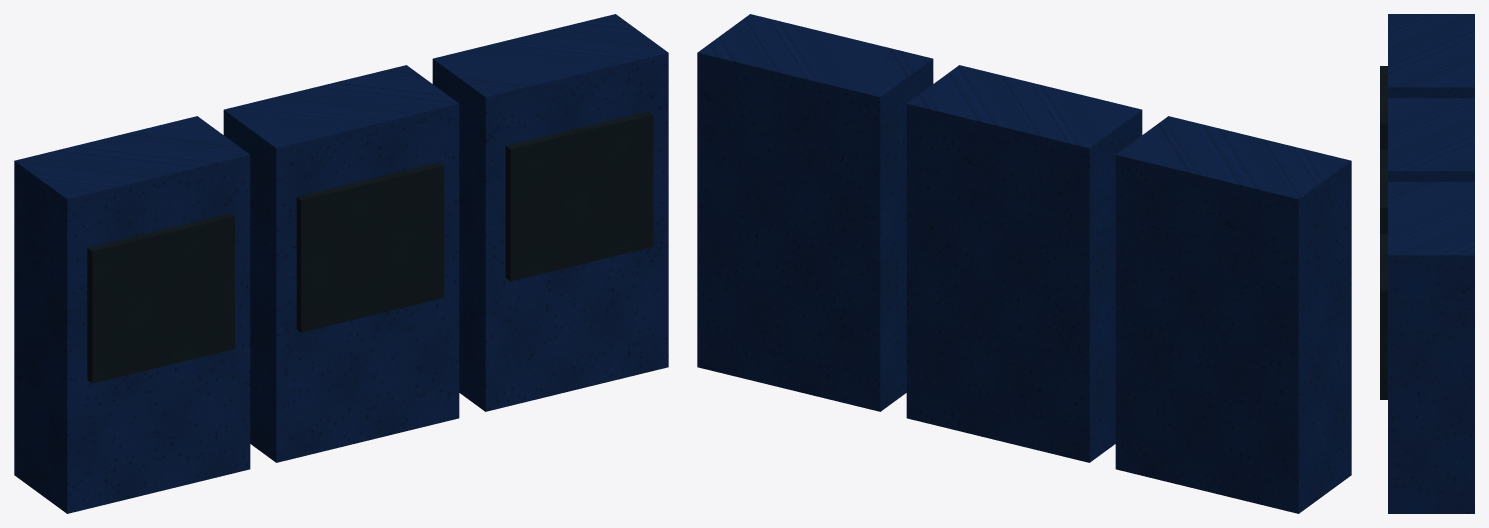
File: PROP-398C09779703_lod2.glb
3 renders of one model, left to right at view 1: azimuth 30°, elevation 25°; view 2: azimuth 150°, elevation 25°; view 3: azimuth 270°, elevation 25°, orthographic. The views are drawn at different scales.
Parts seen in each view (by area): view 1: cabinet.006, recessed_front.006; view 2: cabinet.006; view 3: cabinet.006, recessed_front.006.
Boxes of the visible parts, left/top/right/bottom form: cabinet.006: left=14, top=14, right=668, bottom=513; recessed_front.006: left=87, top=111, right=653, bottom=383; cabinet.006: left=697, top=14, right=1351, bottom=513; cabinet.006: left=1388, top=14, right=1474, bottom=513; recessed_front.006: left=1380, top=66, right=1387, bottom=399.
Bounding box in the file's own units: 2.3 × 1.15 × 0.3825.
2 materials, 2 textured.
